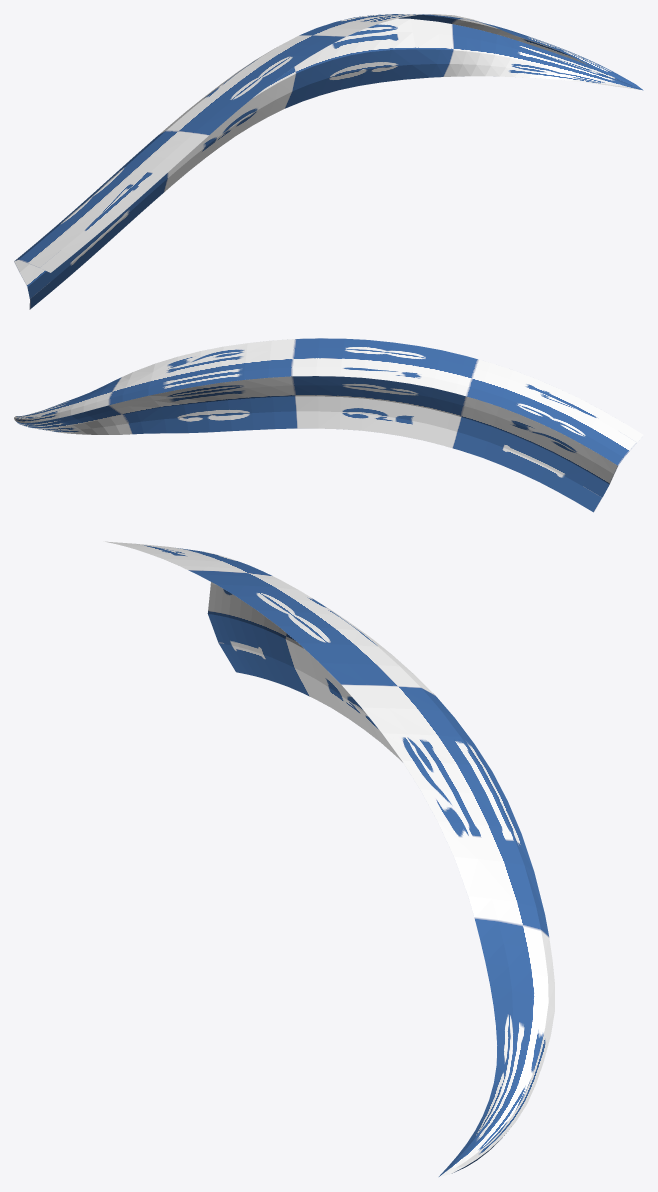
Rendered from Wind5.fbx.
The picture shows the model from 3 angles, top to bottom: view 1: azimuth 30°, elevation 25°; view 2: azimuth 150°, elevation 25°; view 3: azimuth 270°, elevation 25°; orthographic projection. The views are drawn at different scales.
Visible parts, largest first — view 1: SM_e_Useful_Wind003; view 2: SM_e_Useful_Wind003; view 3: SM_e_Useful_Wind003.
Part boxes in pixels (<box>): SM_e_Useful_Wind003: <box>14,14,643,309</box>; SM_e_Useful_Wind003: <box>14,338,643,512</box>; SM_e_Useful_Wind003: <box>105,541,554,1177</box>.
Size of the model in its own units: 125 by 28.12 by 44.89.
